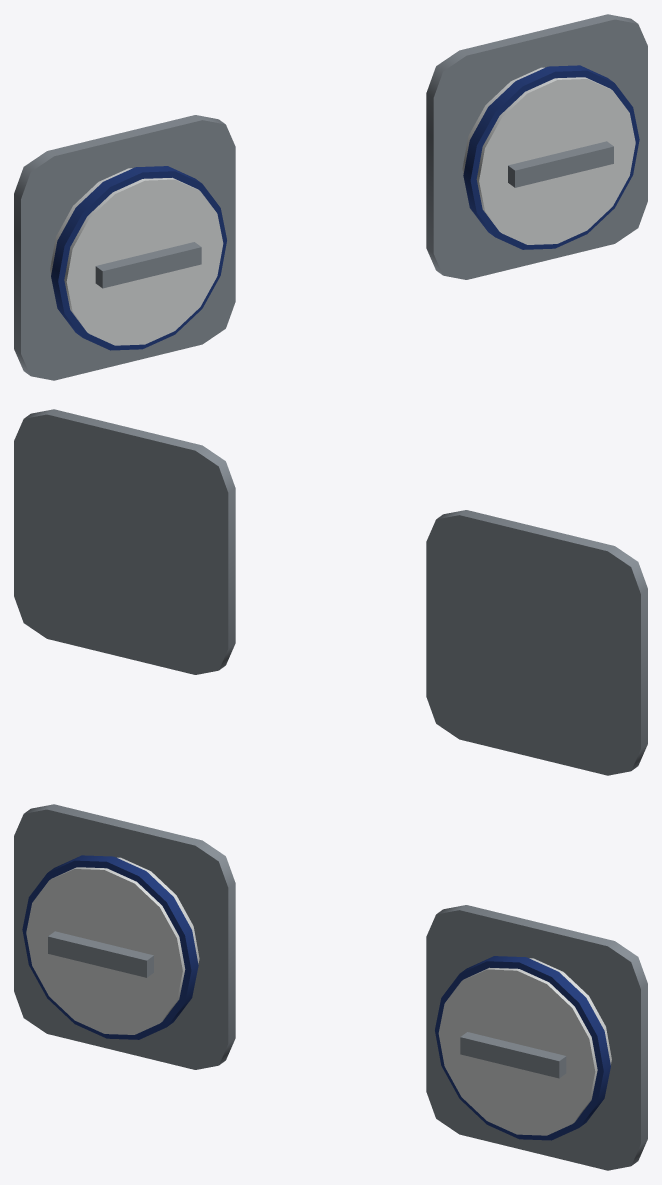
Rendered from l4_scrubber.obj.
The picture shows the model from 3 angles, top to bottom: view 1: azimuth 30°, elevation 25°; view 2: azimuth 150°, elevation 25°; view 3: azimuth 330°, elevation 25°; orthographic projection.
Visible parts, largest first — view 1: l4_scrubber; view 2: l4_scrubber; view 3: l4_scrubber.
Boxes of the visible parts, x1,y1,x2,y2 form: l4_scrubber: [14, 14, 647, 380]; l4_scrubber: [14, 409, 647, 775]; l4_scrubber: [14, 804, 647, 1170].
Bounding box in the file's own units: 1.52 × 0.52 × 0.13.
